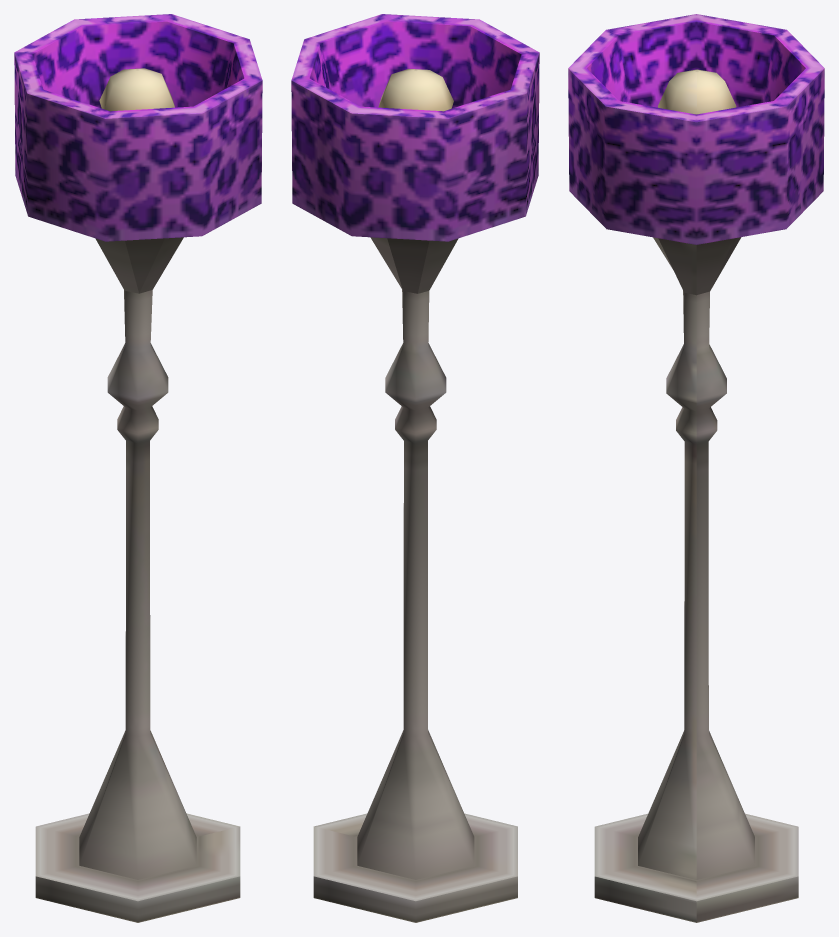
The model's file is furni_0200085_03.FBX.
3 views of the same model, side by side, from view 1: azimuth 30°, elevation 25°; view 2: azimuth 150°, elevation 25°; view 3: azimuth 270°, elevation 25° (orthographic).
Parts seen in each view (by area): view 1: furni_0200085_03; view 2: furni_0200085_03; view 3: furni_0200085_03.
Part boxes in pixels (box(x1,y1,x2,y2)): furni_0200085_03: box(14, 14, 262, 922); furni_0200085_03: box(291, 14, 539, 922); furni_0200085_03: box(568, 14, 824, 922).
Size of the model in its own units: 47.24 by 164 by 47.24.
Materials: 1 (1 with a texture image).
